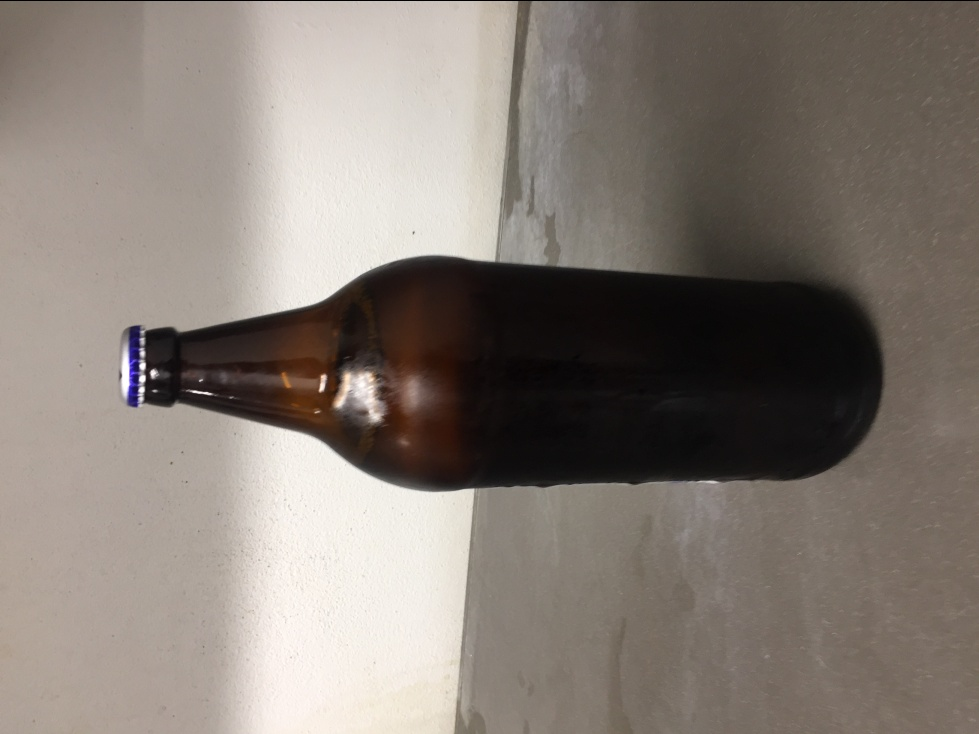tecateC: (116, 254, 882, 489)
